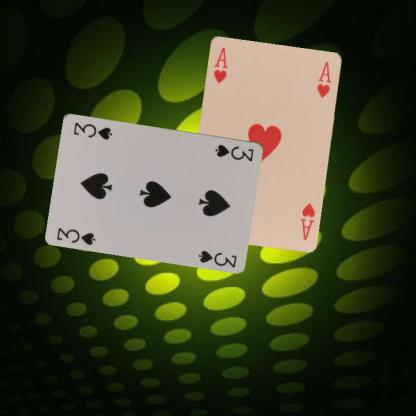3s: (212, 141, 256, 162), (54, 225, 97, 246)
Ah: (210, 44, 229, 85), (298, 200, 316, 241)
